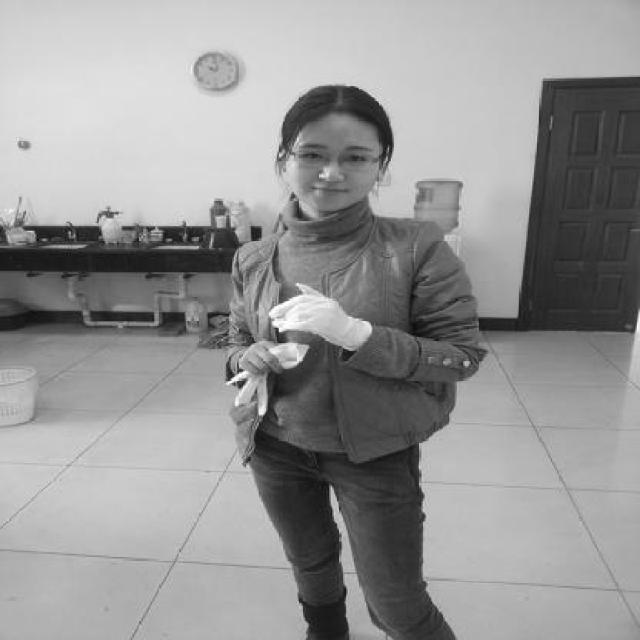face_nomask: (283, 138, 397, 216)
glasses: (292, 146, 379, 174)
hand_glove: (268, 281, 363, 337)
hand_noglove: (240, 338, 289, 377)
head_nohelmet: (272, 70, 410, 136)
person: (212, 72, 474, 640)
